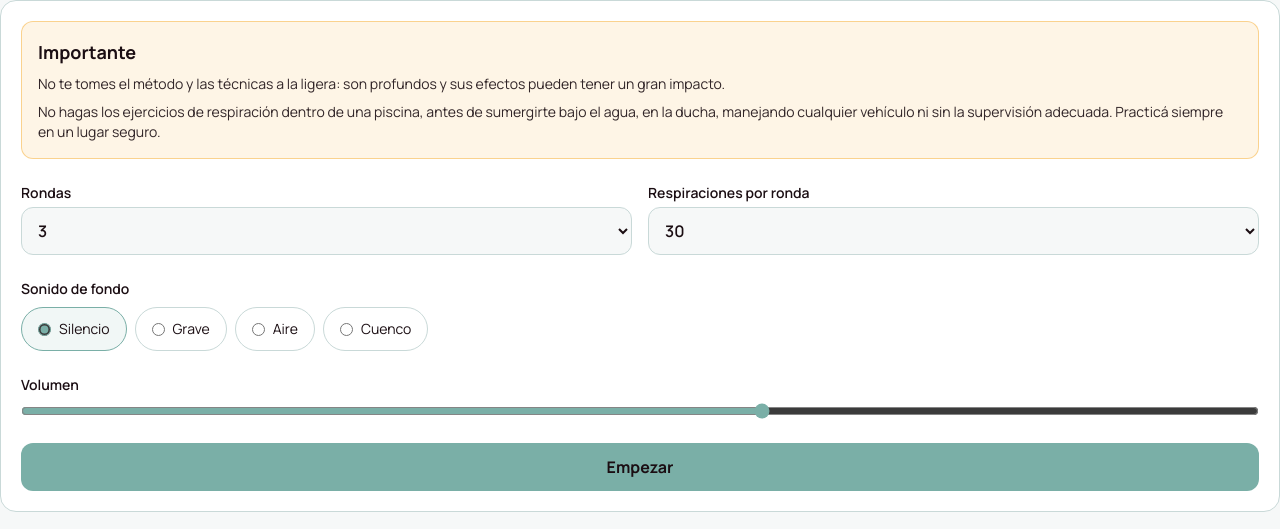
Test case: a full session › counts the breaths, one every 3 seconds, with the round shown
Select "2" in the dropdown labelled "Rondas" at coordinates (326, 231), box x1=21 y1=207 x2=632 y2=255
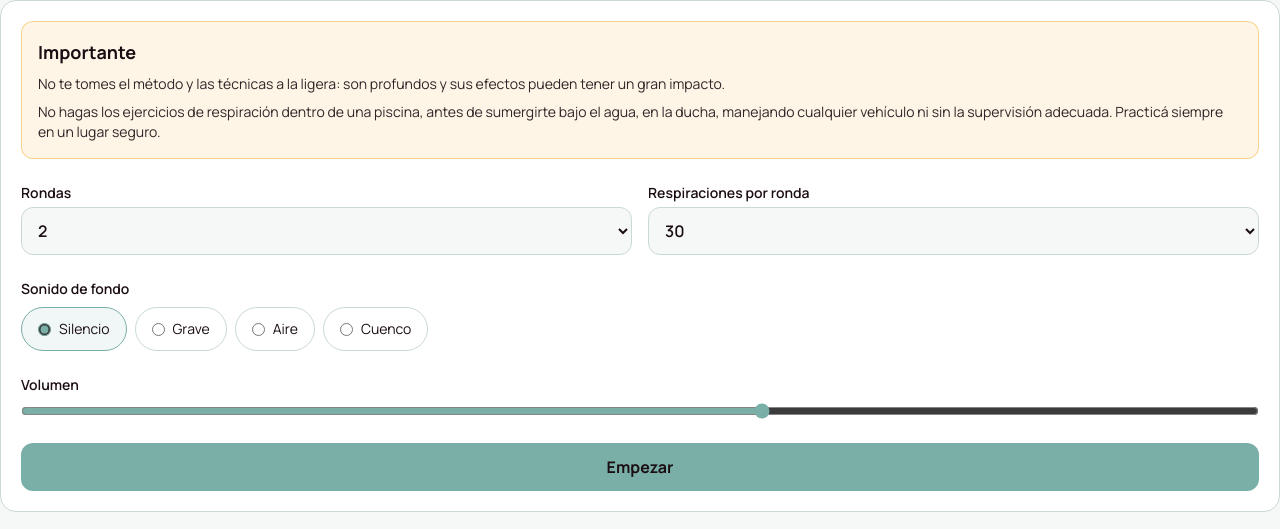
Select "10" in the dropdown labelled "Respiraciones por ronda" at coordinates (954, 231), box x1=648 y1=207 x2=1259 y2=255
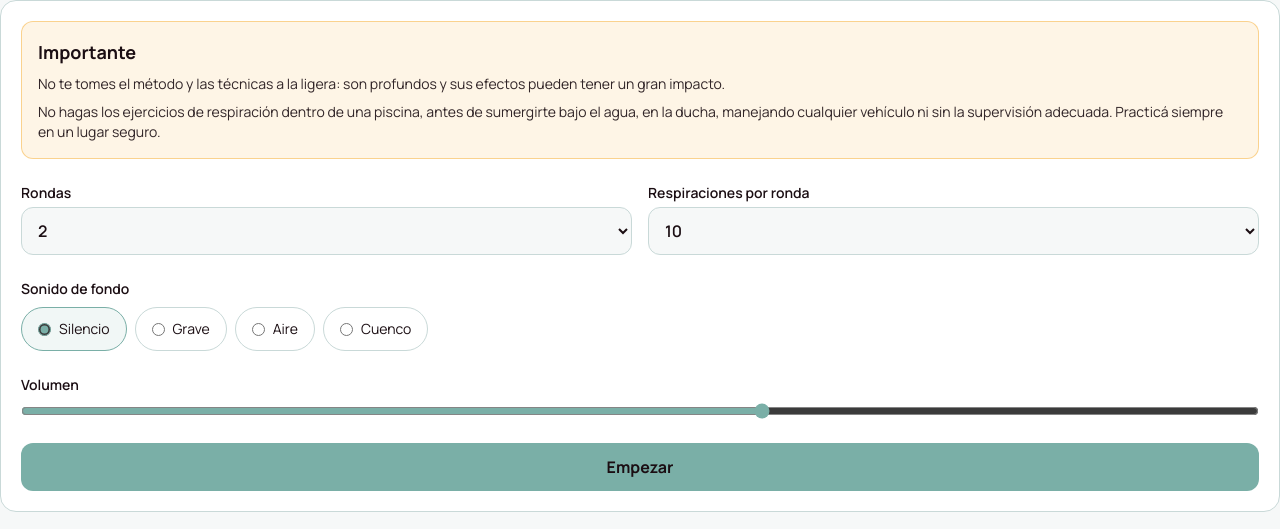
Click the radio button labelled "Grave" at coordinates (158, 329), box x1=152 y1=322 x2=164 y2=336
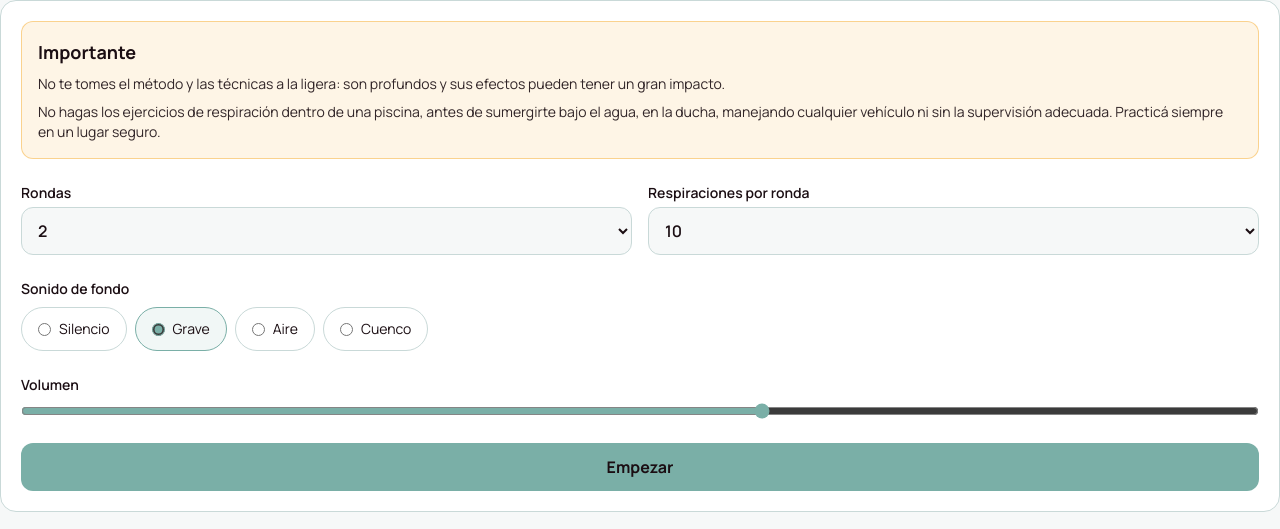
Click the button "Empezar" at coordinates (640, 467), box x1=21 y1=443 x2=1259 y2=491
Wait 15000 ms
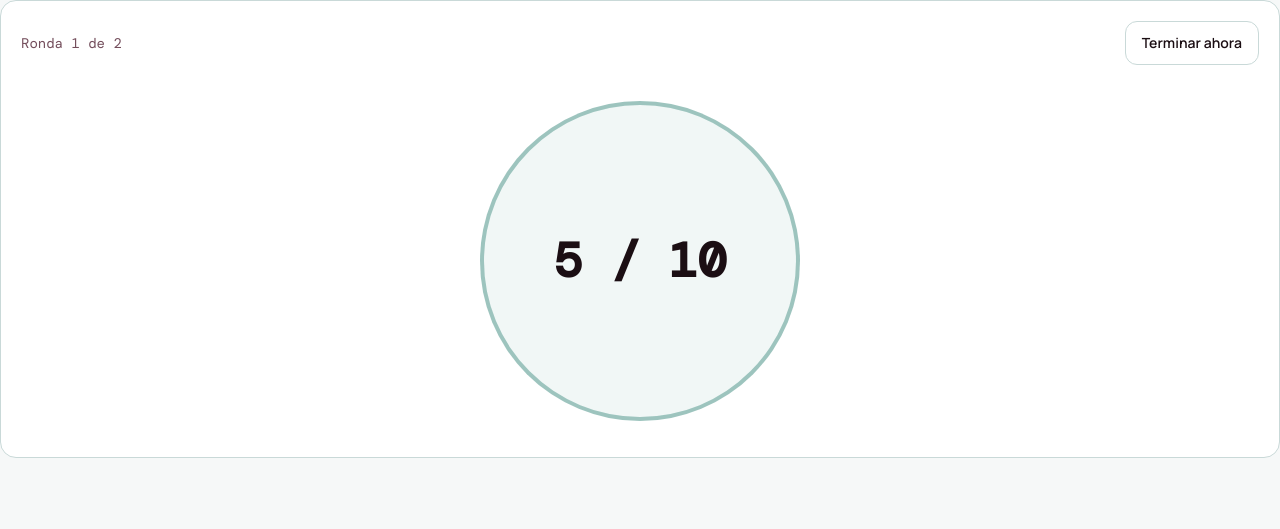
Expected: the text "Ronda 1 de 2" is shown, x1=21 y1=33 x2=122 y2=53
Expected: the text "5 / 10" is shown, x1=554 y1=237 x2=726 y2=285
